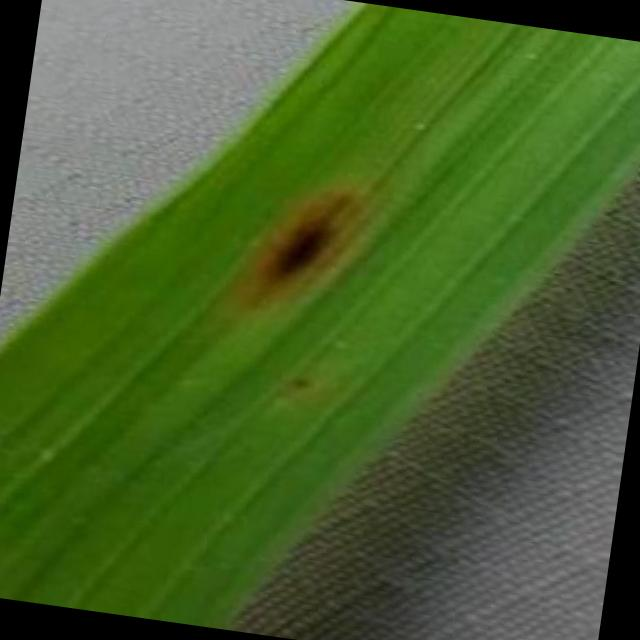Rice_Brownspot: (207, 154, 390, 335), (268, 359, 328, 398)
